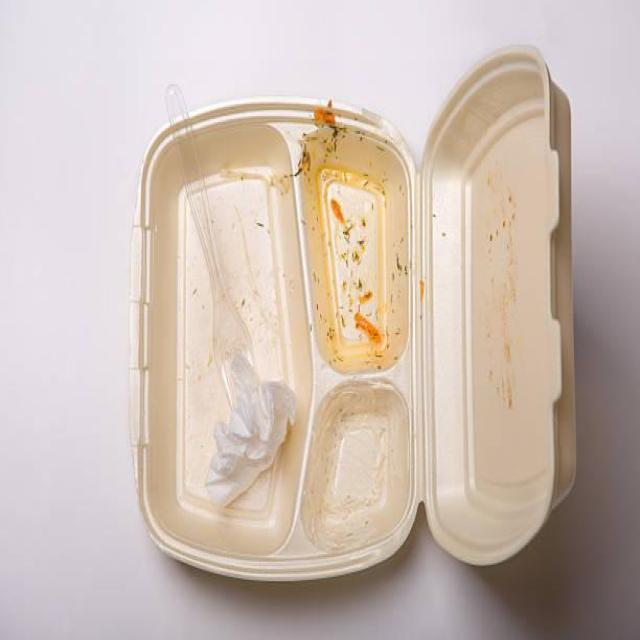styrofoam: (127, 42, 577, 583)
